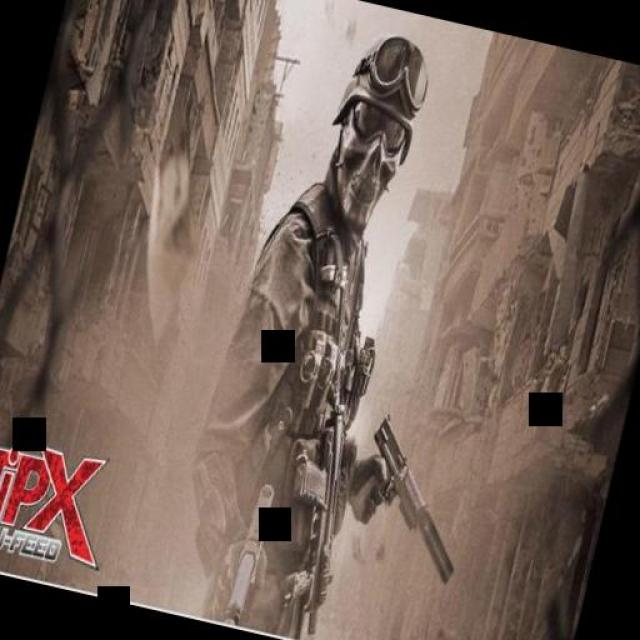gun: (345, 402, 445, 532), (215, 470, 281, 626)
